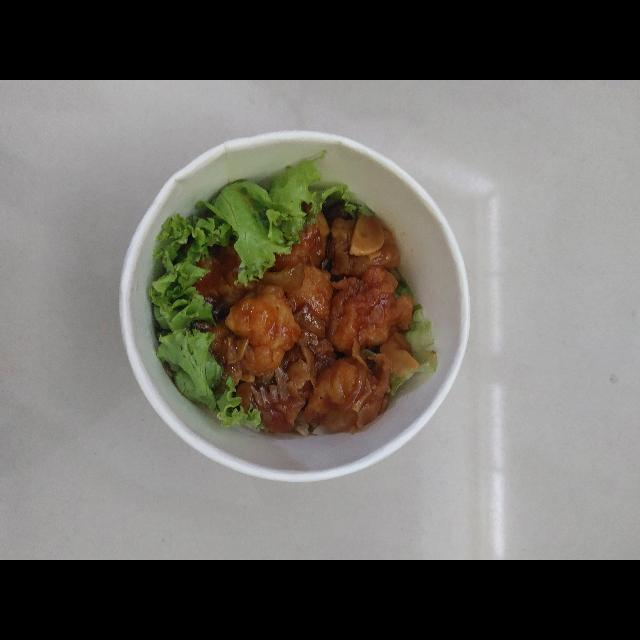rice-bowl: (110, 124, 497, 503)
